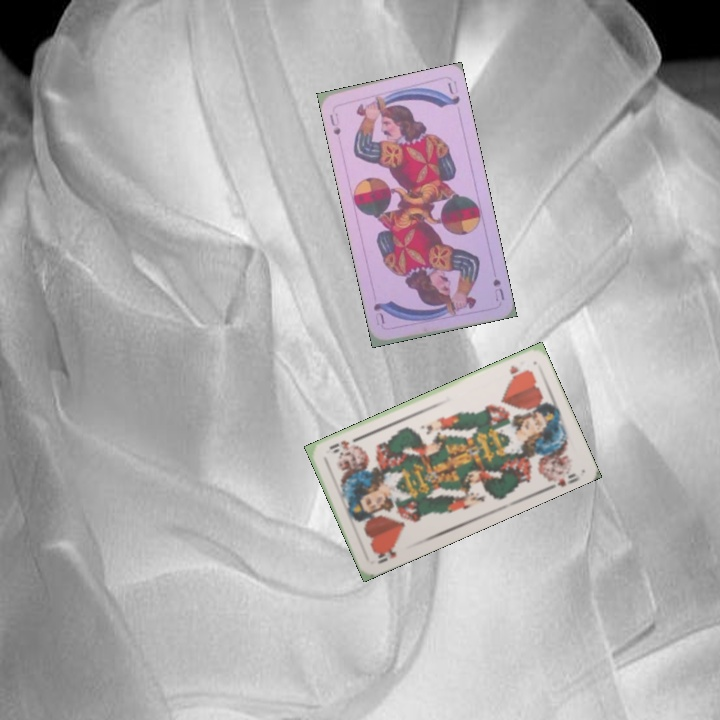HO: (373, 542, 399, 566), (506, 361, 531, 379)
SU: (489, 275, 507, 304), (325, 109, 343, 138)
